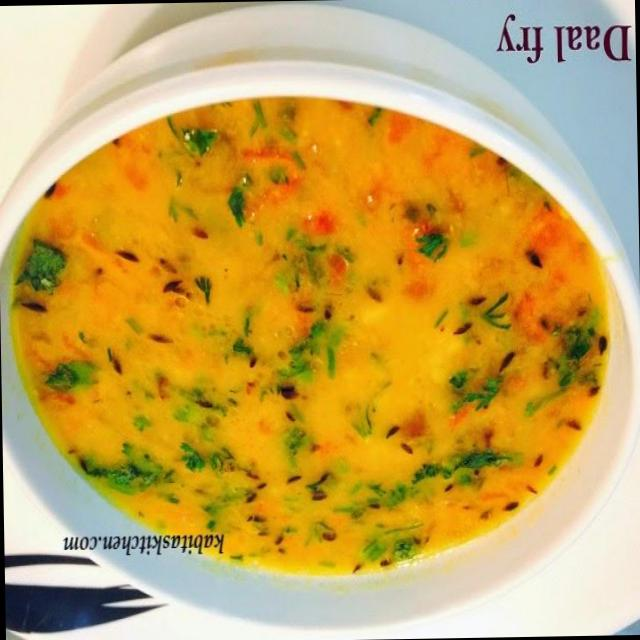dal: (9, 92, 612, 584)
